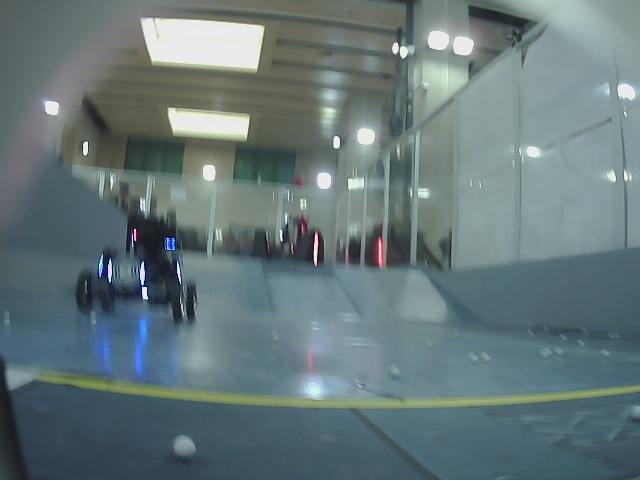lamp: (106, 258, 114, 288), (137, 259, 145, 288)
pair: (107, 259, 145, 286)
